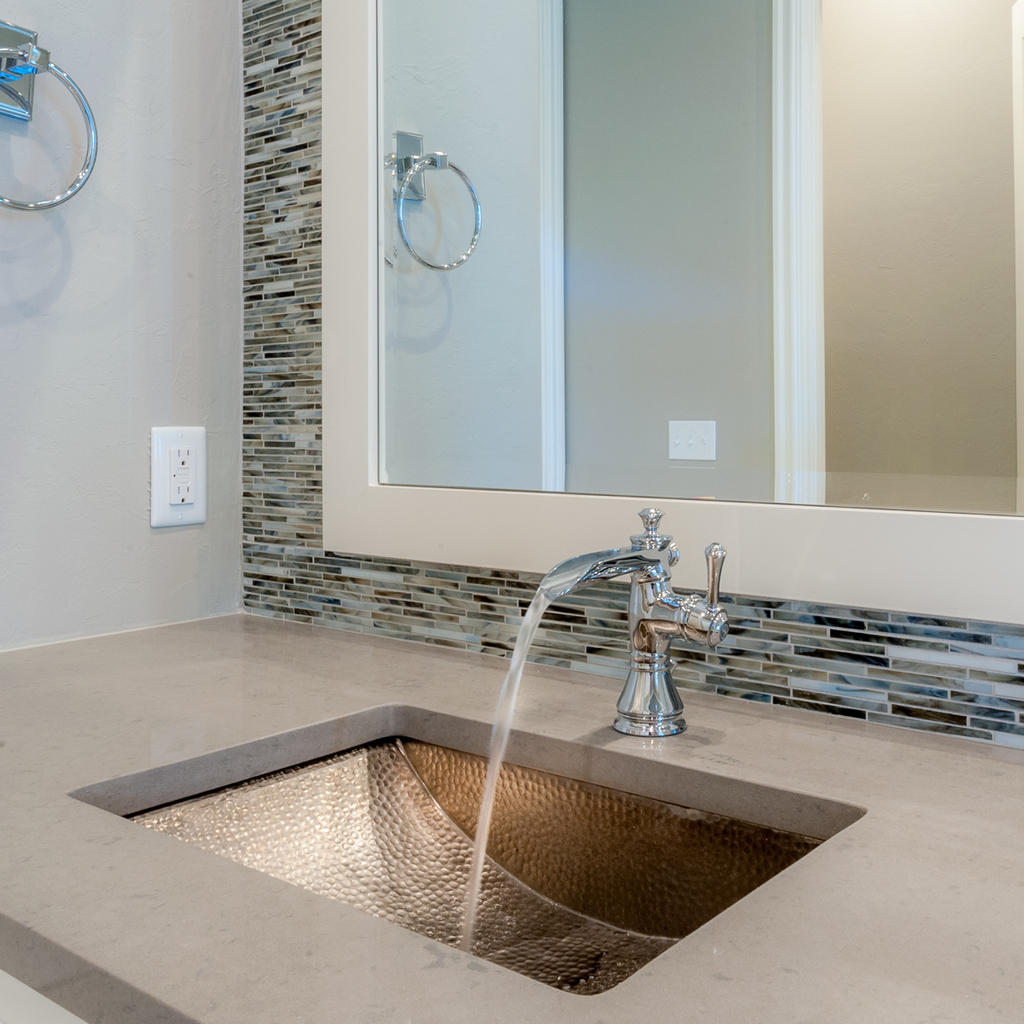tap: (536, 507, 735, 734)
